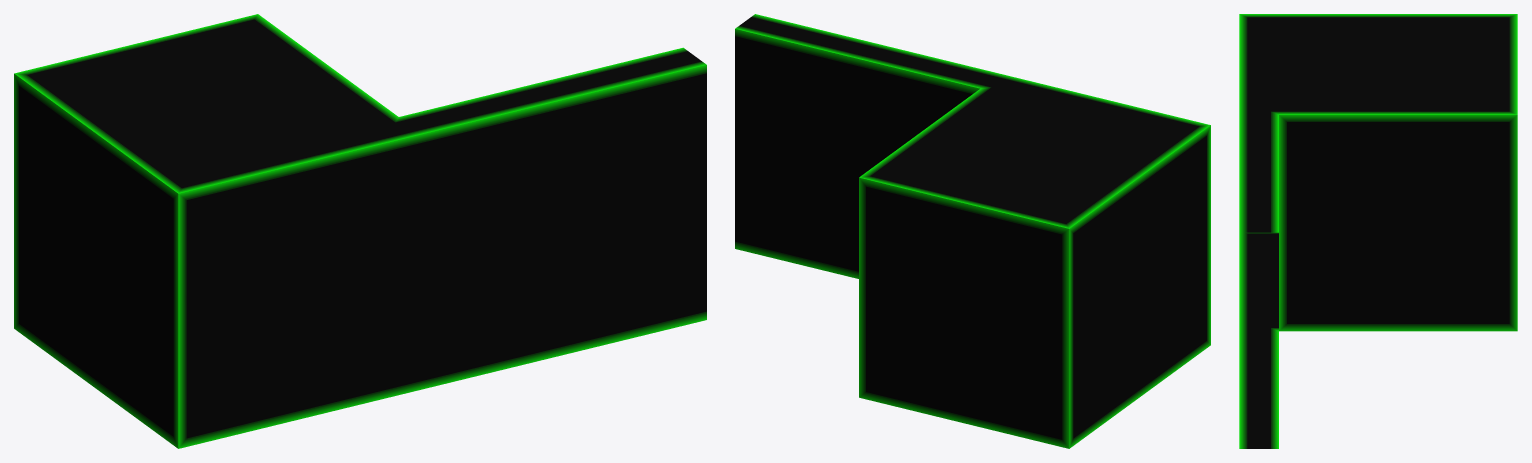
File: table.fbx
3 renders of one model, left to right at view 1: azimuth 30°, elevation 25°; view 2: azimuth 150°, elevation 25°; view 3: azimuth 270°, elevation 25°, orthographic. The views are drawn at different scales.
Parts seen in each view (by area): view 1: Cube_004; view 2: Cube_004; view 3: Cube_004.
Part boxes in pixels (<box>): Cube_004: <box>14,14,706,448</box>; Cube_004: <box>735,14,1210,448</box>; Cube_004: <box>1239,14,1517,448</box>.
Bounding box in the file's own units: 1.3 × 0.6 × 0.7.
Materials: 1 (1 with a texture image).
